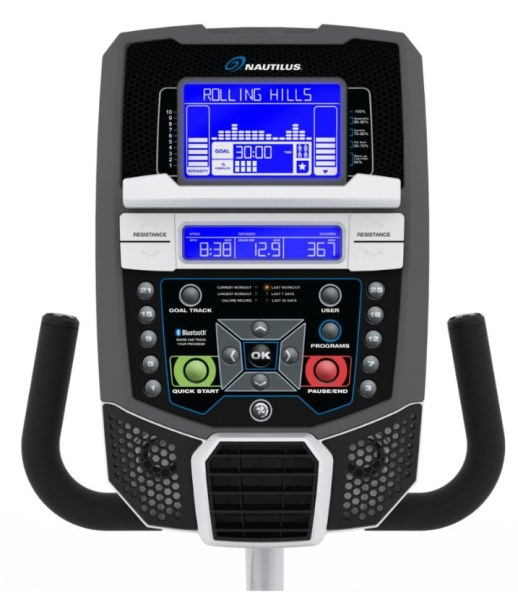gym_bike: (10, 17, 507, 590)
